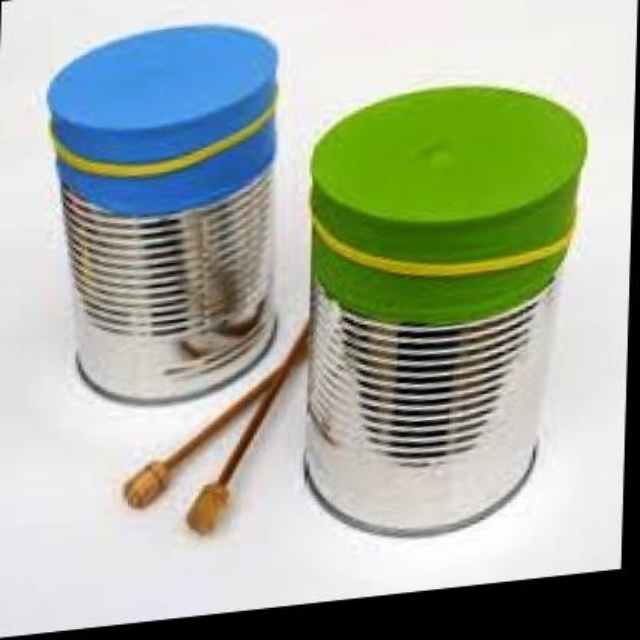trash: (305, 86, 586, 532), (48, 25, 275, 400)
